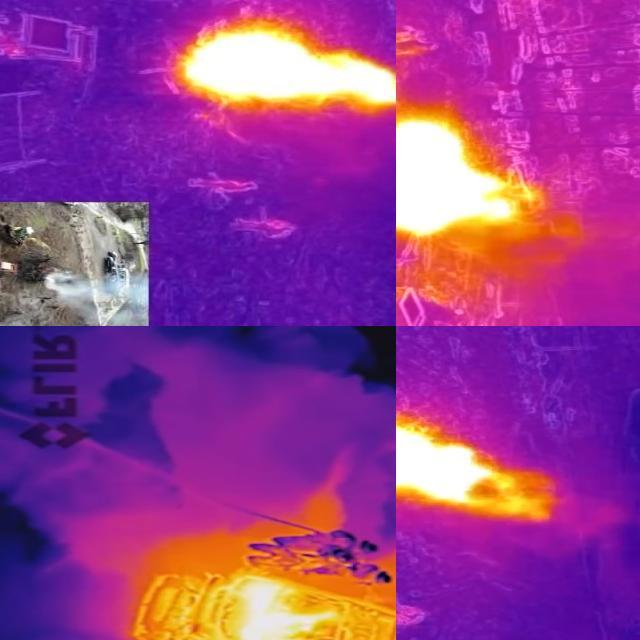fire: (174, 27, 397, 113), (397, 119, 518, 239), (397, 419, 545, 517), (226, 570, 364, 640)
